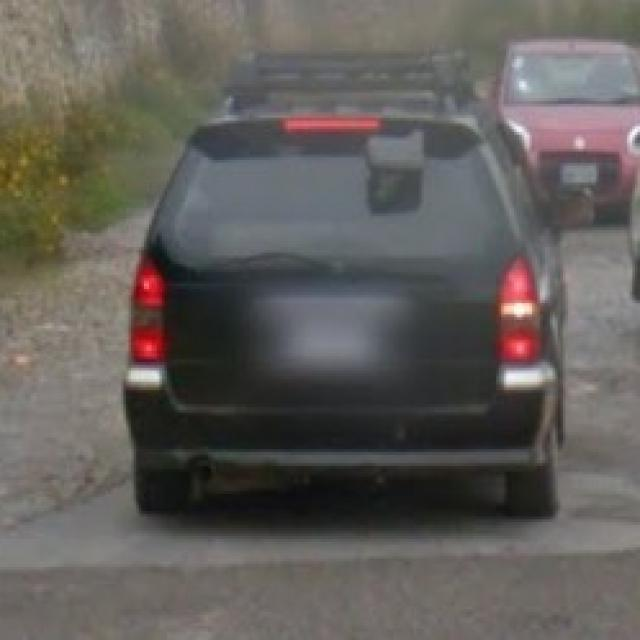car: (126, 49, 559, 549), (491, 36, 640, 222)
